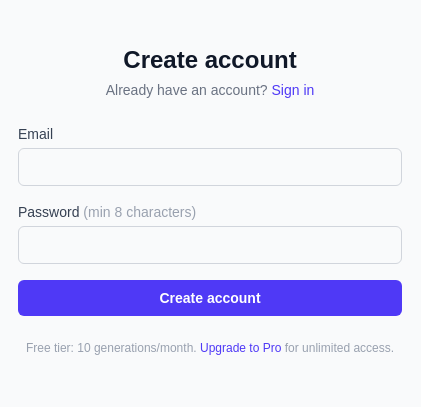
it: RegisterPage › shows generic error for non-ApiError exceptions
The width and height of the screenshot is (421, 407).
Type "user@example.com" into the field labelled "Email" at coordinates (210, 167), box [18,148,402,186]
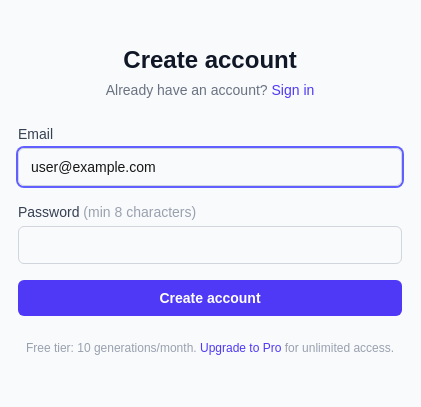
Type "password123" into the password field labelled "Password (min 8 characters)" at coordinates (210, 245), box [18,226,402,264]
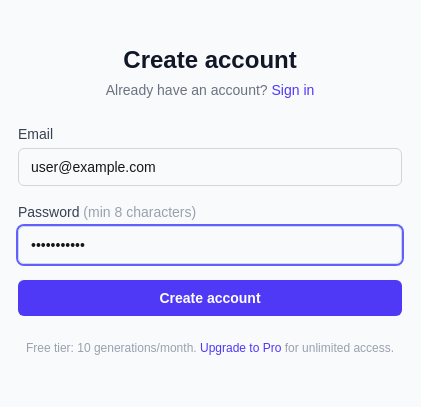
Click the button "Create account" at coordinates (210, 298), box [18,280,402,316]
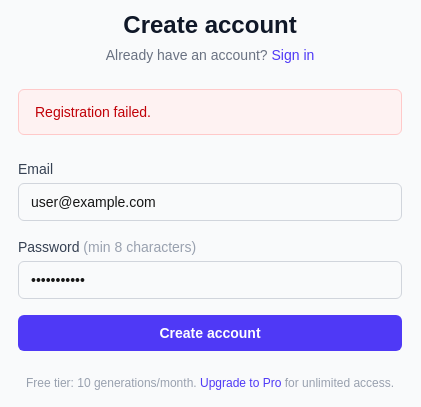
Now the text "Registration failed." is shown, box [18,89,402,135]
